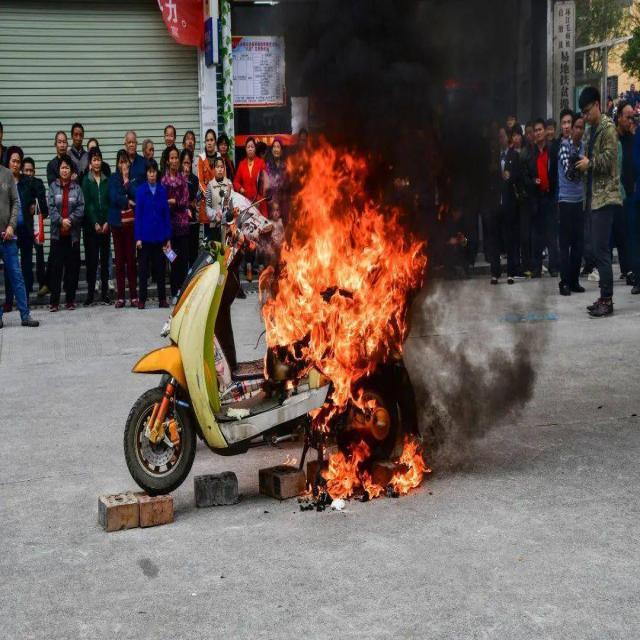Fire: (263, 150, 426, 368), (327, 434, 425, 498), (318, 367, 374, 431)
Smoke: (278, 0, 528, 143), (432, 326, 550, 472)
